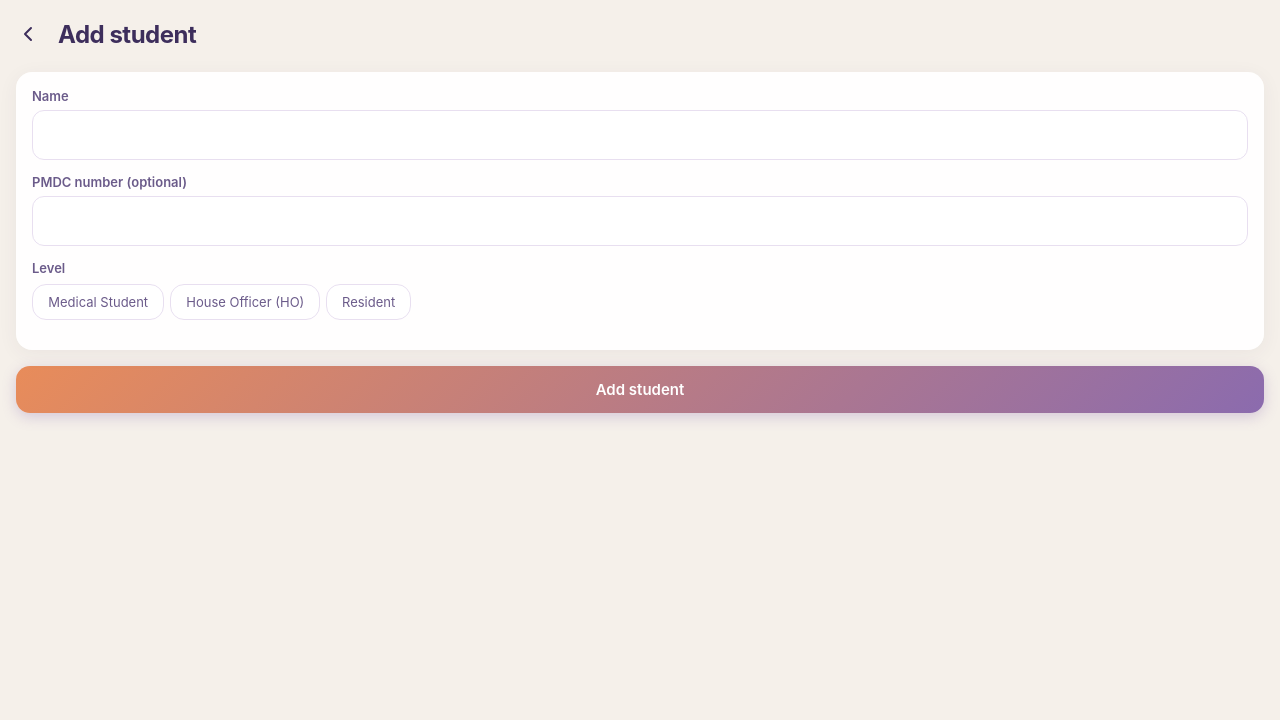
Test: student form › requires a name and saves nothing without one
Click the button "Medical Student".
click(98, 302)  # box [32,284,164,320]
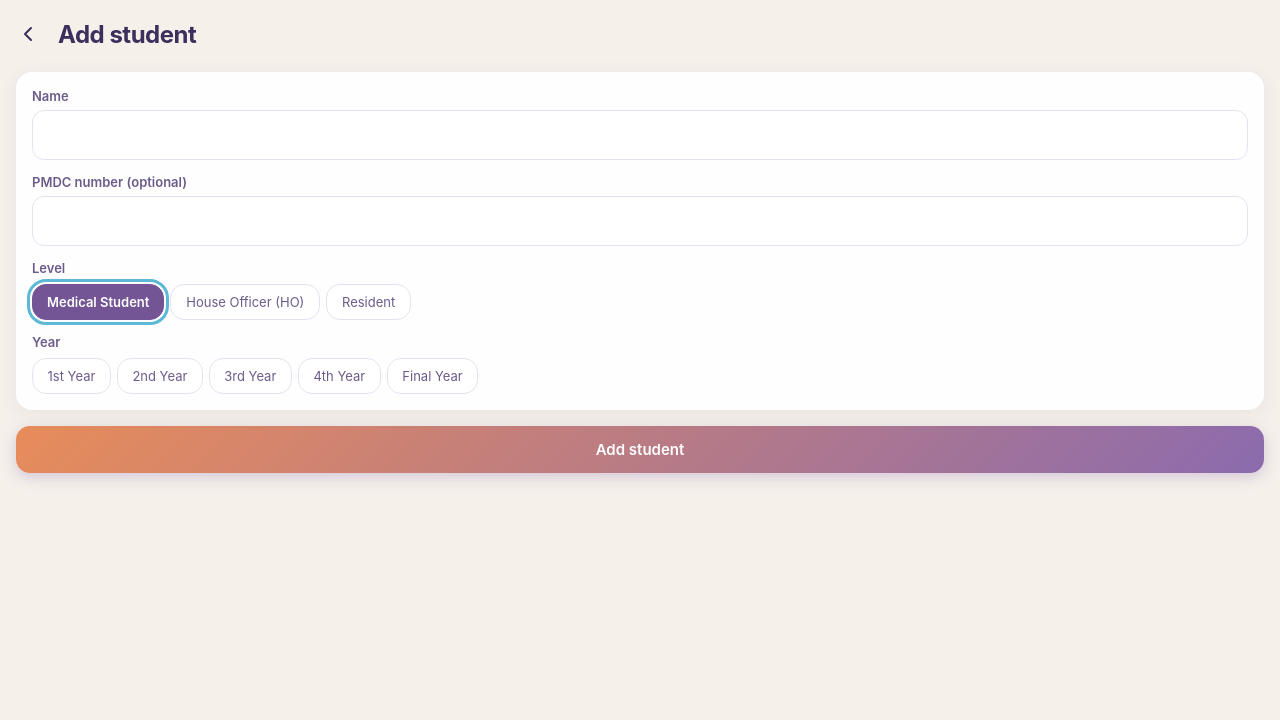
Click the button "Add student".
click(640, 450)  # box [16,426,1264,473]
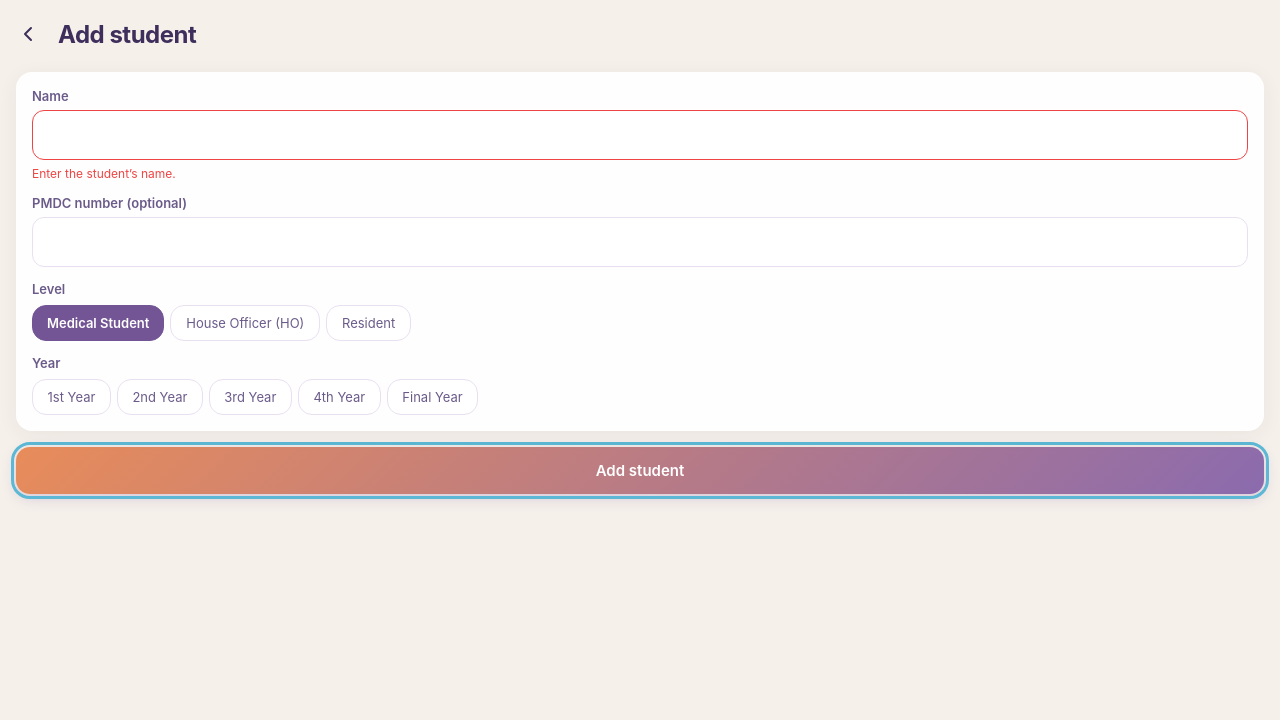
expect the text "Enter the student’s name." is shown: met, box [32,166,176,181]
